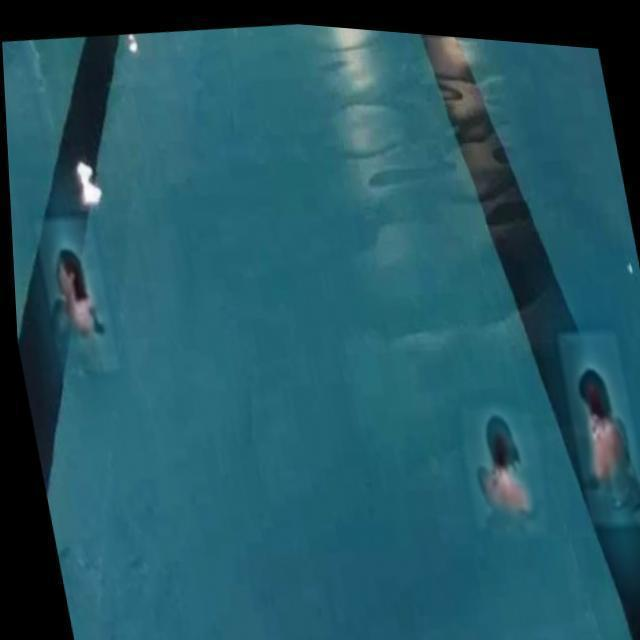swimming: (35, 239, 122, 366), (564, 357, 635, 493), (460, 410, 538, 523)
